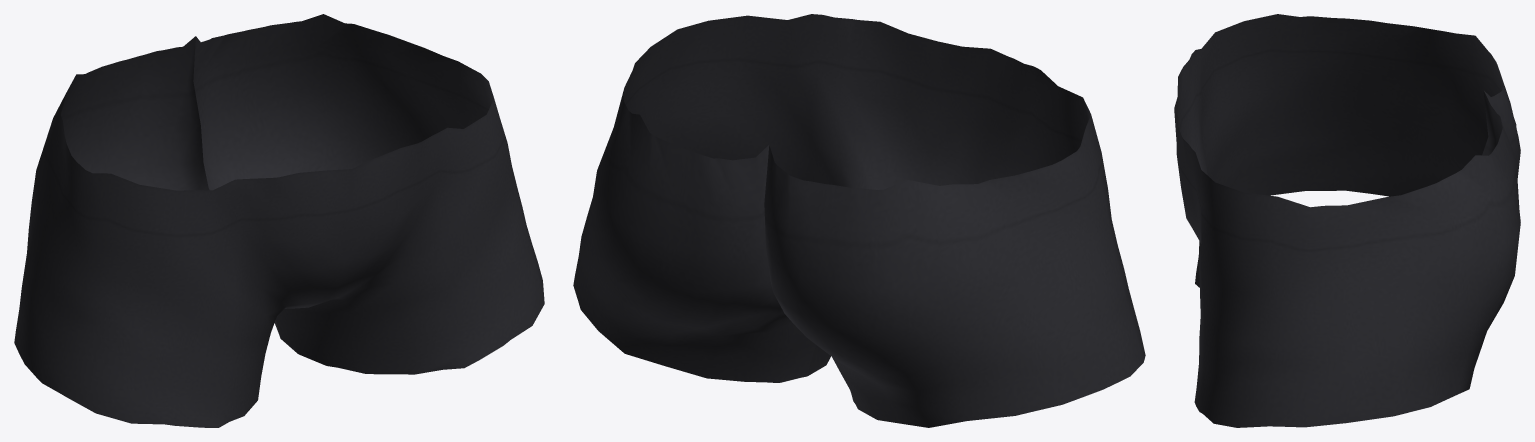
Rendered from clothing_briefs.glb.
3 renders of one model, left to right at view 1: azimuth 30°, elevation 25°; view 2: azimuth 150°, elevation 25°; view 3: azimuth 270°, elevation 25°, orthographic. The views are drawn at different scales.
Parts seen in each view (by area): view 1: Cloth_briefs; view 2: Cloth_briefs; view 3: Cloth_briefs.
Part boxes in pixels (bbox=[...]): Cloth_briefs: bbox=[14, 14, 544, 427]; Cloth_briefs: bbox=[573, 14, 1145, 427]; Cloth_briefs: bbox=[1174, 14, 1520, 427].
Bounding box in the file's own units: 0.3789 × 0.1987 × 0.235.
1 material, 1 textured.
